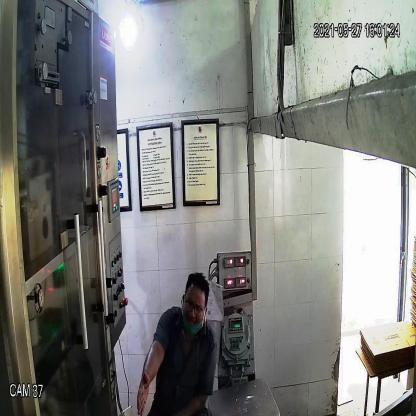goggles: (180, 292, 208, 318)
